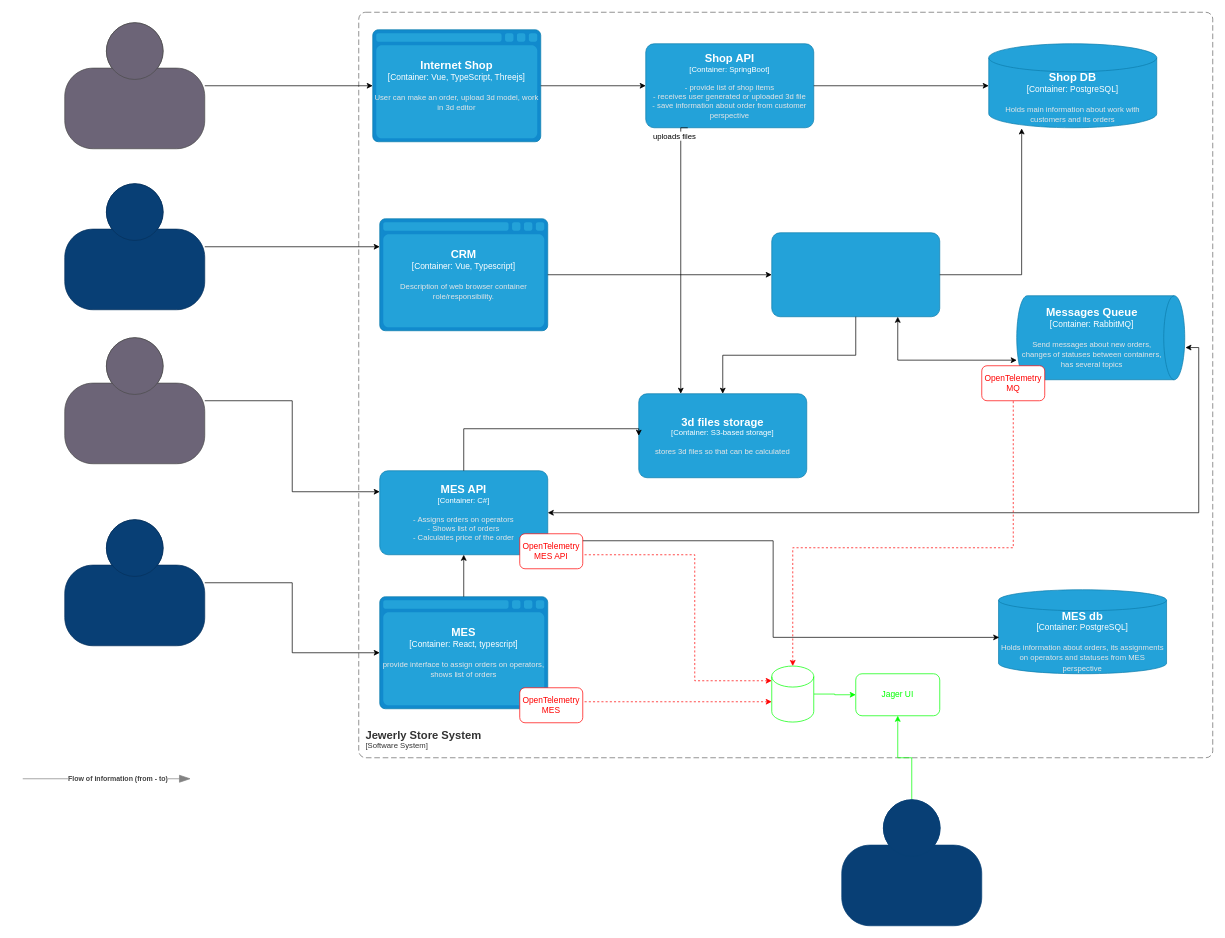
The diagram is 1225 pixels wide and 938 high, and some of its shapes have lost their labels. Here are the shapes that lost their labels. From the top down, the centre of each, then its label:
the point at 134,85: Customer [Person] Description of external person.
the point at 134,246: Seller [Person] Operates with order, confirms manufacturing for the user
the point at 855,274: CRM API [Container: SpringBoot] Description of container role/responsibility.
the point at 134,400: API user [Person] Description of external person.
the point at 134,582: Operator [Person] Takes order in work, manufactures jewerly
the point at 792,693: Jaeger
the point at 911,862: DevOps [Person] Check Tracing
